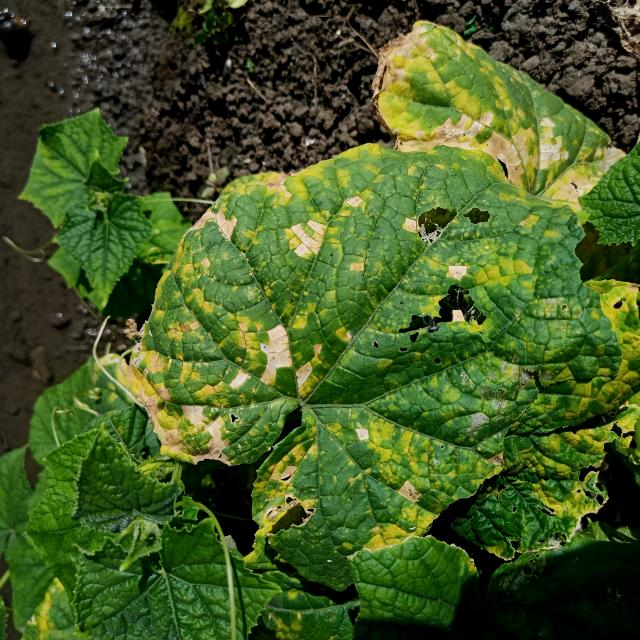disease_cucumber: (130, 155, 618, 565), (383, 23, 621, 215)
